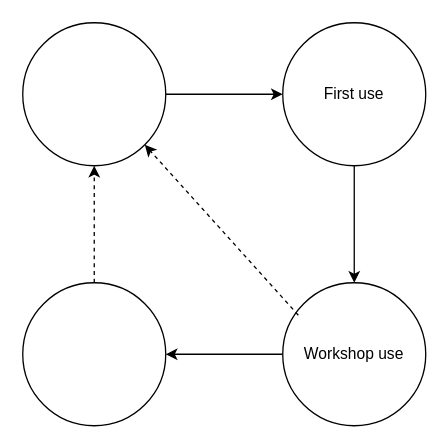
This 448x448 diagram has some shape labels left out. The centre of each missing label's shape, as x and y in pixels:
"Core development" belongs at [93,93].
"Operational service" belongs at [93,353].
